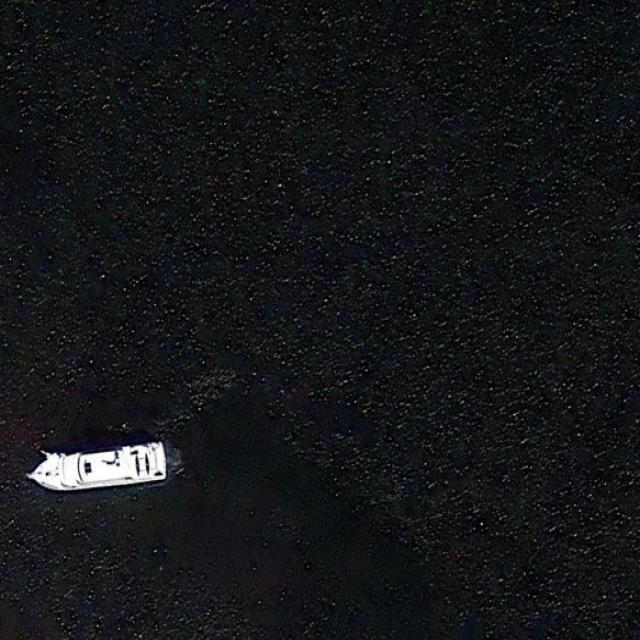ship: (24, 432, 171, 493)
